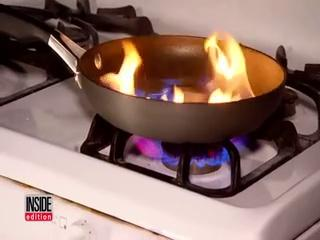Fire: (98, 16, 266, 106)
